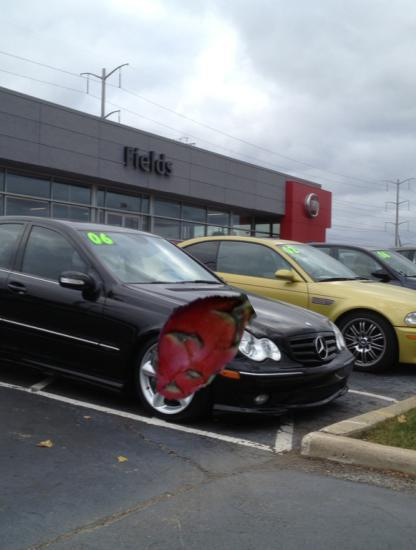Pitahaya: (138, 280, 263, 405)
